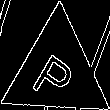P_NE: (31, 40, 83, 103)
